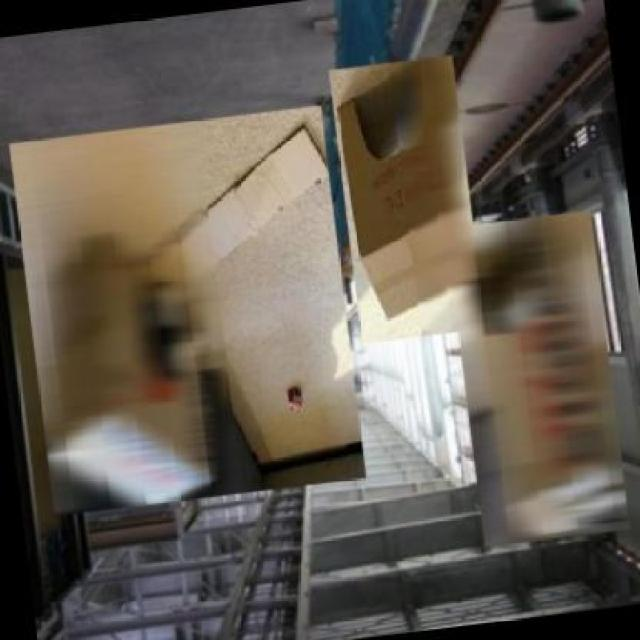box: (2, 97, 370, 521), (442, 204, 630, 550), (323, 49, 488, 346)
